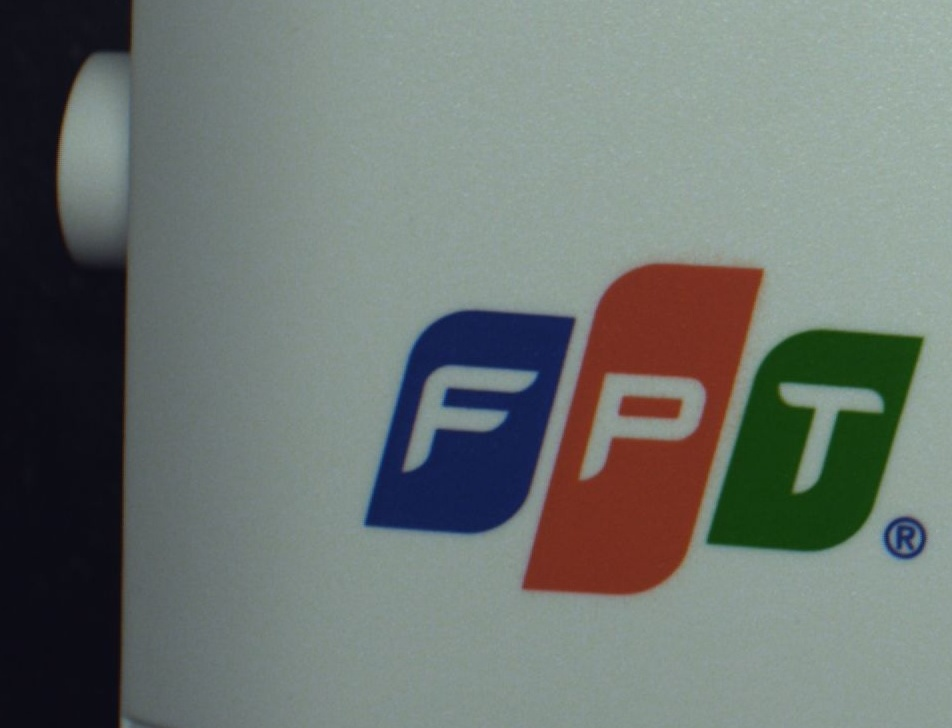BR_FPT: (352, 253, 934, 596)
